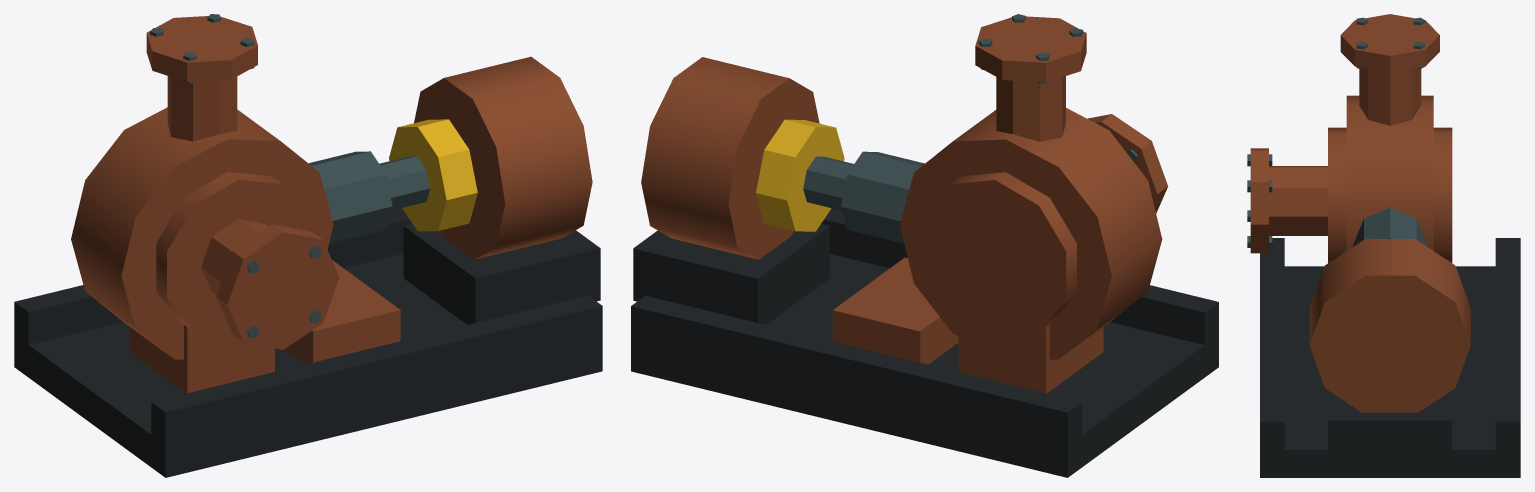
File: scrap_industrial_pump.fbx
3 renders of one model, left to right at view 1: azimuth 30°, elevation 25°; view 2: azimuth 150°, elevation 25°; view 3: azimuth 270°, elevation 25°, orthographic. The views are drawn at different scales.
Parts seen in each view (by area): view 1: scrap_industrial_pump; view 2: scrap_industrial_pump; view 3: scrap_industrial_pump.
Boxes of the visible parts, box(x1,y1,x2,y2) form: scrap_industrial_pump: box(14, 14, 602, 477); scrap_industrial_pump: box(631, 14, 1218, 477); scrap_industrial_pump: box(1247, 14, 1520, 477).
Size of the model in its own units: 0.76 by 0.55 by 0.44.
1 material, 1 textured.
